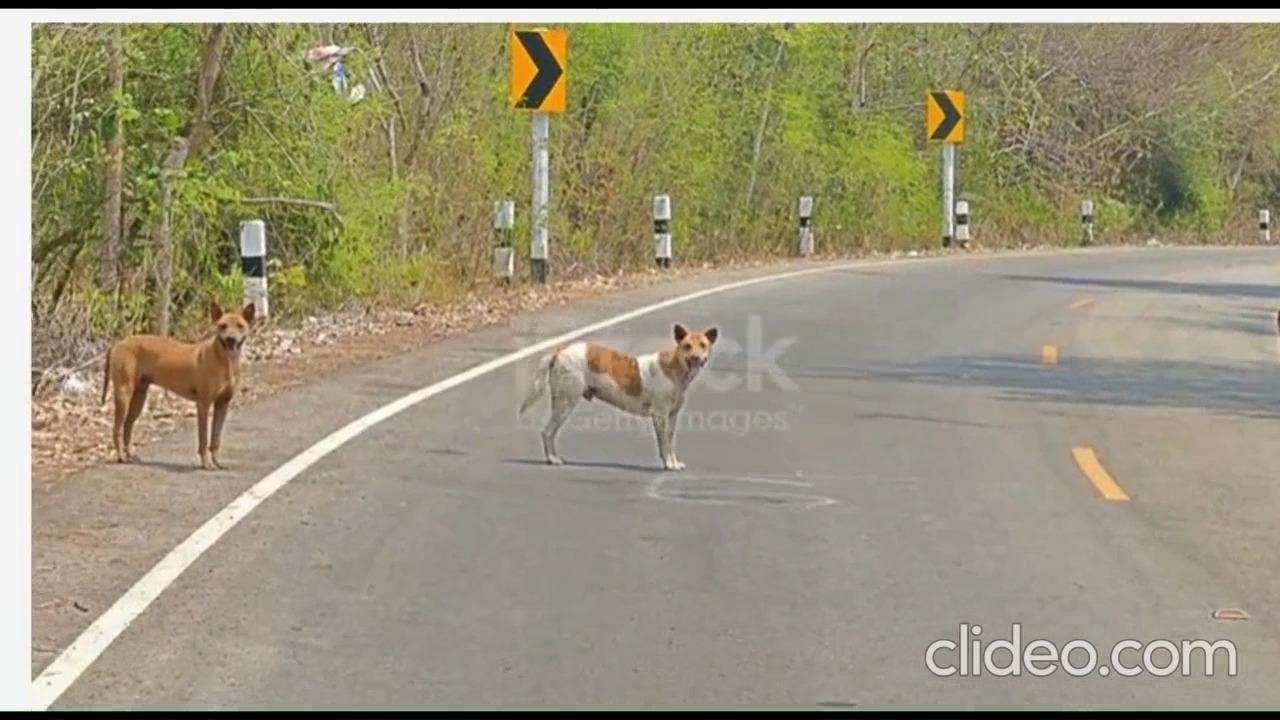dog: (524, 320, 724, 472), (98, 301, 263, 462)
